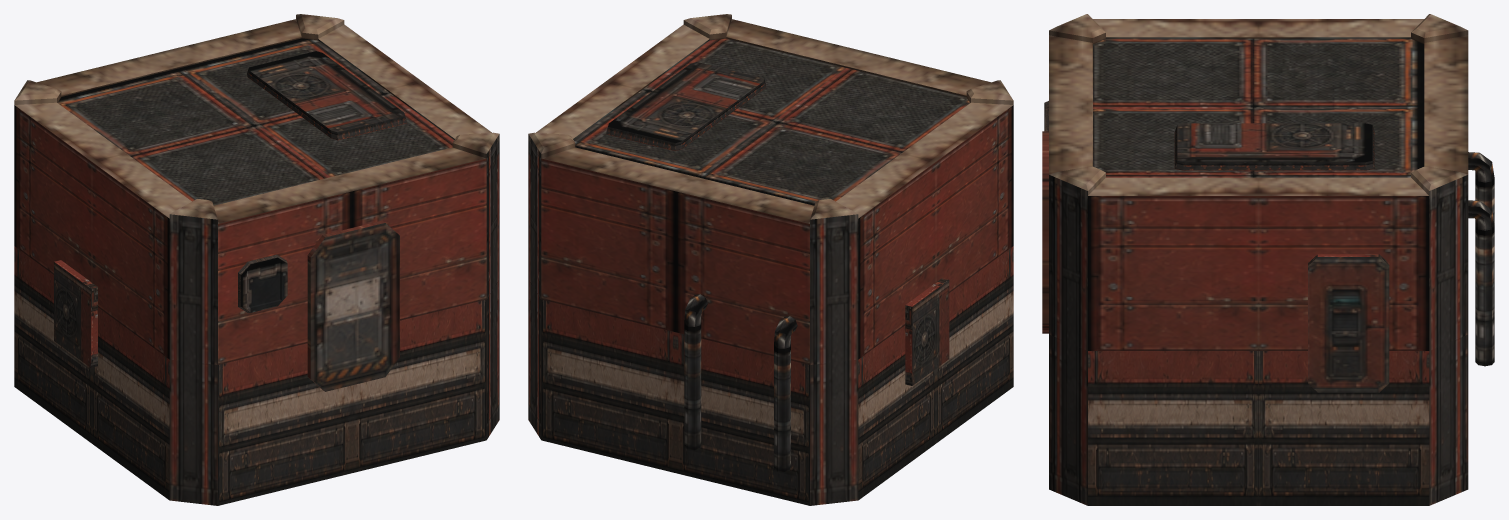
3 renders of one model, left to right at view 1: azimuth 30°, elevation 25°; view 2: azimuth 150°, elevation 25°; view 3: azimuth 270°, elevation 25°, orthographic. The views are drawn at different scales.
Parts seen in each view (by area): view 1: casa_storehouse.001; view 2: casa_storehouse.001; view 3: casa_storehouse.001.
Boxes of the visible parts, x1,y1,x2,y2 form: casa_storehouse.001: [14, 14, 499, 505]; casa_storehouse.001: [528, 14, 1013, 505]; casa_storehouse.001: [1042, 14, 1494, 505].
Bounding box in the file's own units: 13.43 × 13.99 × 10.85.
